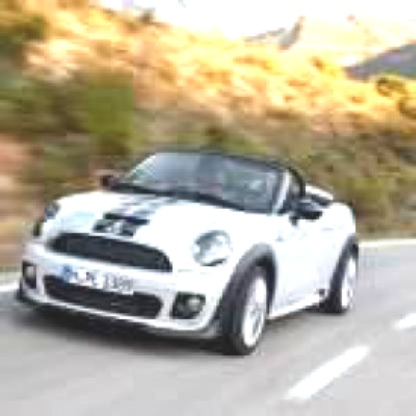Vehicle: (20, 144, 360, 358)
